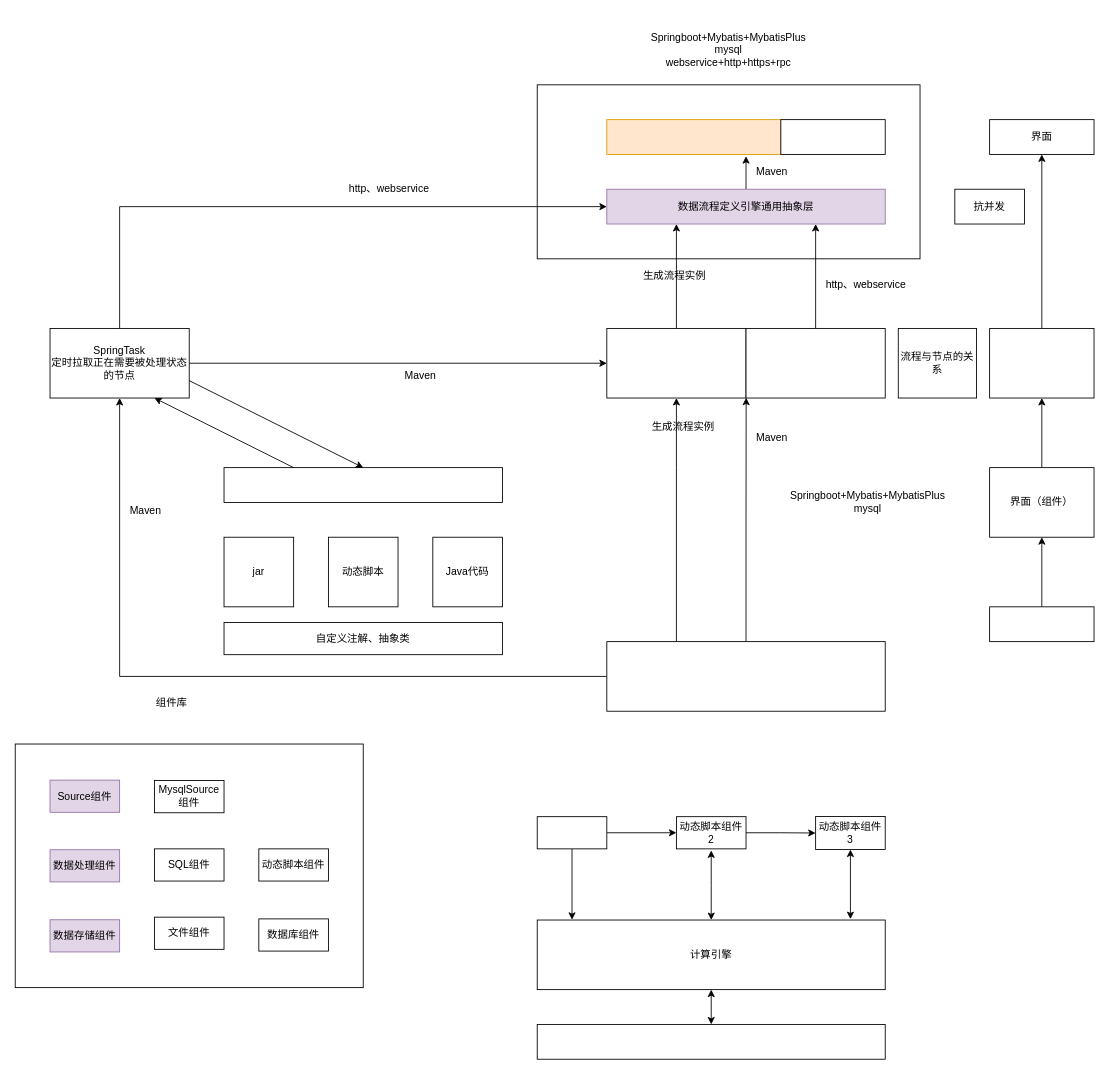
Image size: 1109x1074. Some labels were removed from this diagram. The shapes that lost their labels are listed below. From the top down, each one's centre as x and y in pixels, then its label:
At [693,136]: "数据流程定义引擎".
At [832,136]: "流程管理".
At [676,363]: "通用组件 自定义组件".
At [815,363]: "1.组件定义、管理 2.流程的定义管理".
At [1041,363]: "适配层 SDK".
At [362,484]: "事件管理器".
At [1041,624]: "使用者".
At [745,676]: "企业应用".
At [571,832]: "动态脚本组件1".
At [710,1041]: "kafka".
